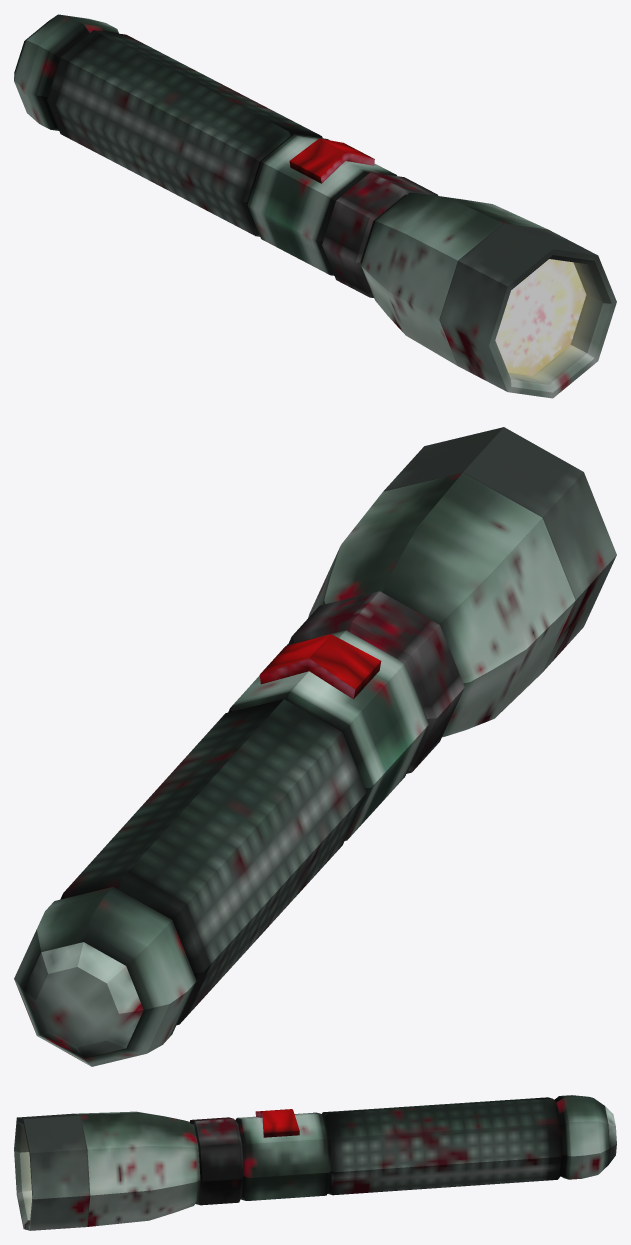
The model's file is Torch.fbx.
3 views of the same model, one above another, from view 1: azimuth 30°, elevation 25°; view 2: azimuth 150°, elevation 25°; view 3: azimuth 270°, elevation 25° (orthographic). The views are drawn at different scales.
Parts seen in each view (by area): view 1: Torch_obj; view 2: Torch_obj; view 3: Torch_obj.
Boxes of the visible parts, x1,y1,x2,y2 form: Torch_obj: (14,14,616,398); Torch_obj: (14,427,616,1066); Torch_obj: (14,1095,616,1230).
Bounding box in the file's own units: 3.17 × 2 × 9.96.
